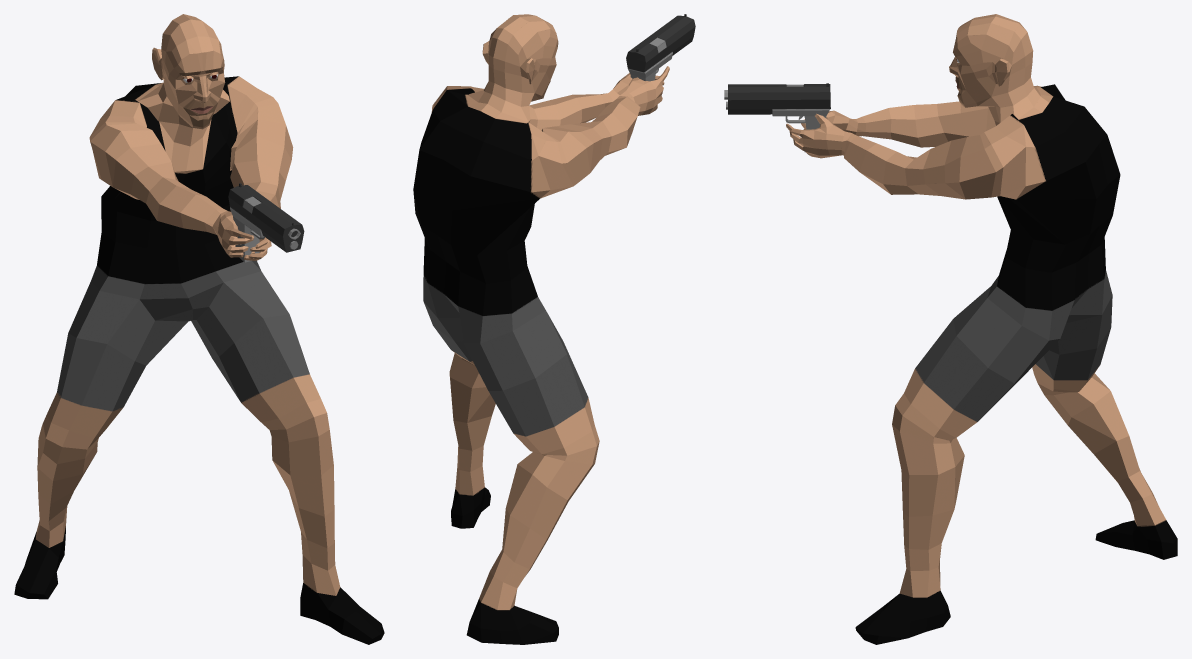
File: PlayerShoot(27).obj
3 views of the same model, side by side, from view 1: azimuth 30°, elevation 25°; view 2: azimuth 150°, elevation 25°; view 3: azimuth 270°, elevation 25° (orthographic). The views are drawn at different scales.
Visible parts, largest first — view 1: Plane002, Box003; view 2: Plane002, Box003; view 3: Plane002, Box003.
Part boxes in pixels (x1,y1,x2,y2): Plane002: (14, 14, 384, 644); Box003: (228, 183, 304, 262); Plane002: (413, 14, 669, 644); Box003: (626, 14, 695, 81); Plane002: (786, 14, 1177, 644); Box003: (724, 83, 830, 152).
Size of the model in its own units: 713 by 1664 by 1204.
